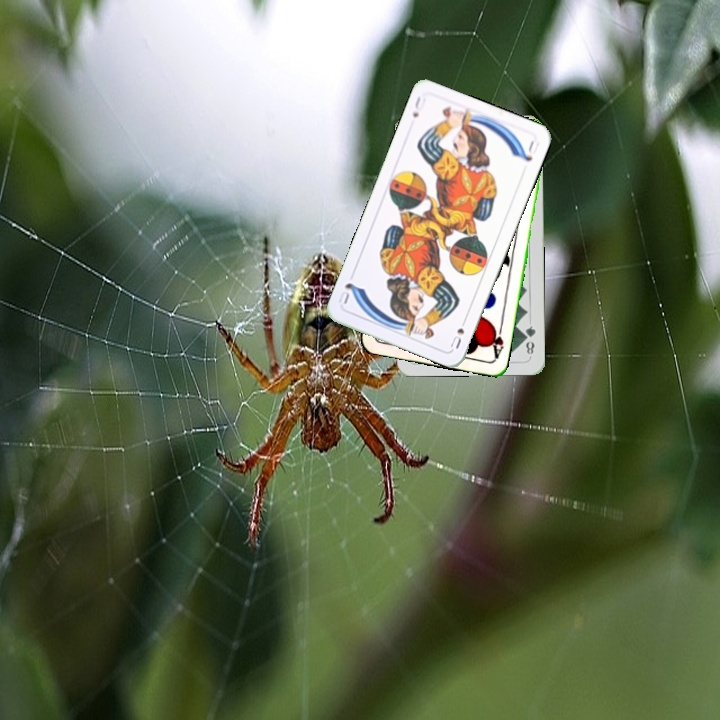G8: (521, 322, 538, 357)
HA: (486, 320, 506, 361)
SU: (446, 313, 469, 351), (408, 92, 428, 120)
